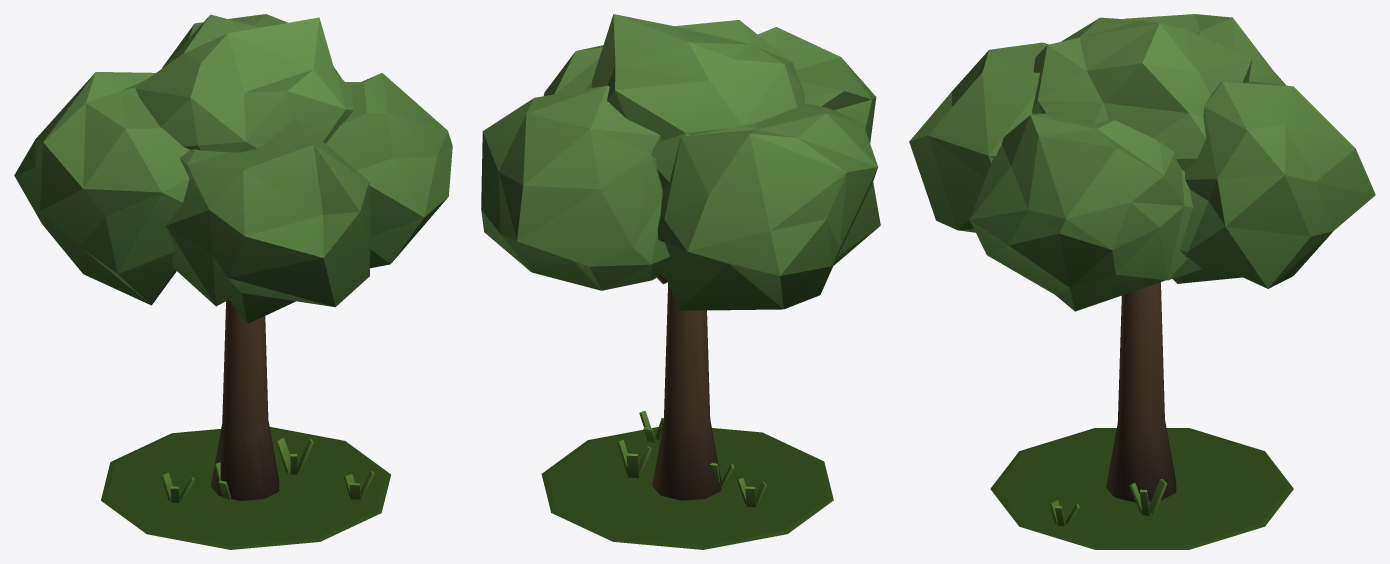
The model's file is lineside_oak.glb.
The picture shows the model from 3 angles, left to right: view 1: azimuth 30°, elevation 25°; view 2: azimuth 150°, elevation 25°; view 3: azimuth 270°, elevation 25°; orthographic projection. The views are drawn at different scales.
Parts seen in each view (by area): view 1: lineside_oak; view 2: lineside_oak; view 3: lineside_oak.
Part boxes in pixels (box(x1,y1,x2,y2)): lineside_oak: box(14, 14, 452, 549); lineside_oak: box(481, 14, 880, 549); lineside_oak: box(909, 14, 1375, 549).
Size of the model in its own units: 3.37 by 4.21 by 3.84.
